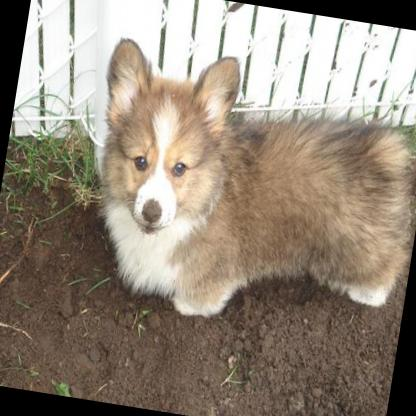Pembroke: (71, 33, 416, 344)
